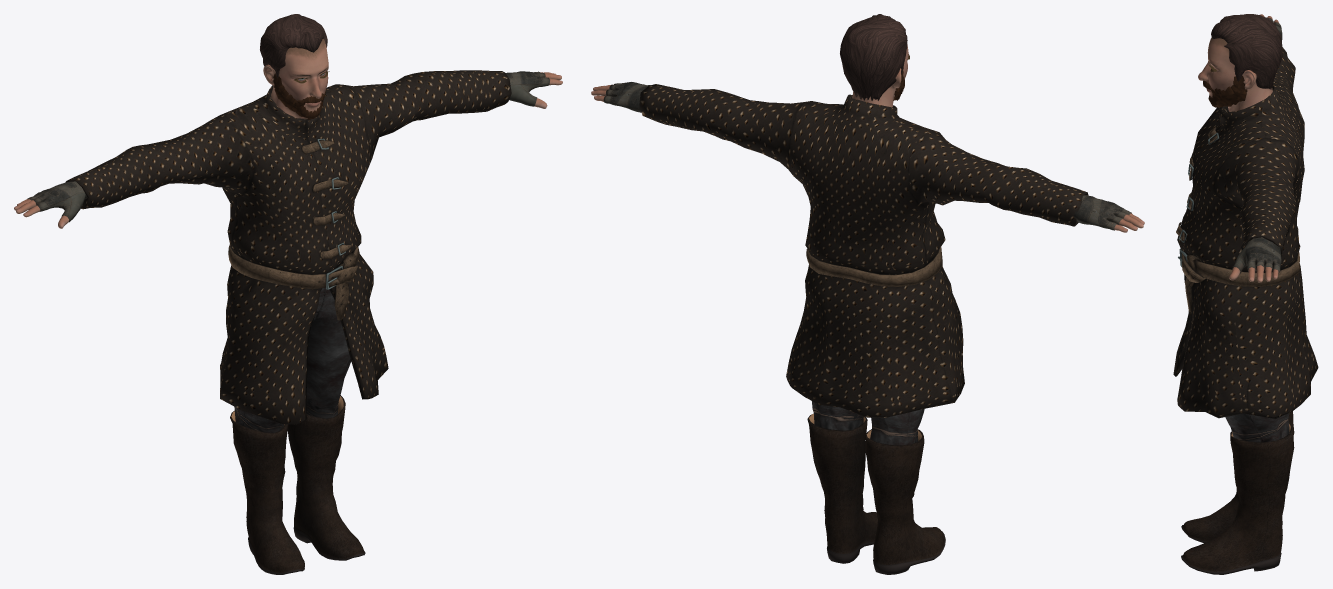
Rendered from Karakter.obj.
The picture shows the model from 3 angles, left to right: view 1: azimuth 30°, elevation 25°; view 2: azimuth 150°, elevation 25°; view 3: azimuth 270°, elevation 25°; orthographic projection.
Visible parts, largest first — view 1: Tops, Shoes, Bottoms, Body, Hair, Gloves; view 2: Tops, Shoes, Hair, Bottoms, Gloves, Body; view 3: Tops, Shoes, Hair, Body, Bottoms, Gloves, Beards.
Boxes of the visible parts, x1=… form: Tops: x1=65, y1=70, x2=511, y2=424; Shoes: x1=230, y1=395, x2=365, y2=574; Bottoms: x1=234, y1=287, x2=351, y2=432; Body: x1=14, y1=39, x2=562, y2=228; Hair: x1=260, y1=14, x2=327, y2=78; Gloves: x1=27, y1=71, x2=549, y2=222; Tops: x1=639, y1=84, x2=1088, y2=417; Shoes: x1=807, y1=413, x2=945, y2=574; Hair: x1=840, y1=14, x2=907, y2=100; Bottoms: x1=812, y1=401, x2=924, y2=445; Gloves: x1=603, y1=82, x2=1131, y2=230; Body: x1=591, y1=44, x2=1144, y2=232; Tops: x1=1173, y1=47, x2=1318, y2=418; Shoes: x1=1181, y1=411, x2=1294, y2=574; Hair: x1=1211, y1=14, x2=1282, y2=89; Body: x1=1198, y1=14, x2=1278, y2=282; Bottoms: x1=1212, y1=280, x2=1289, y2=442; Gloves: x1=1232, y1=18, x2=1282, y2=273; Beards: x1=1208, y1=75, x2=1247, y2=108.
Bounding box in the file's own units: 194 × 180 × 44.19.
Materials: 8 (8 with a texture image).
